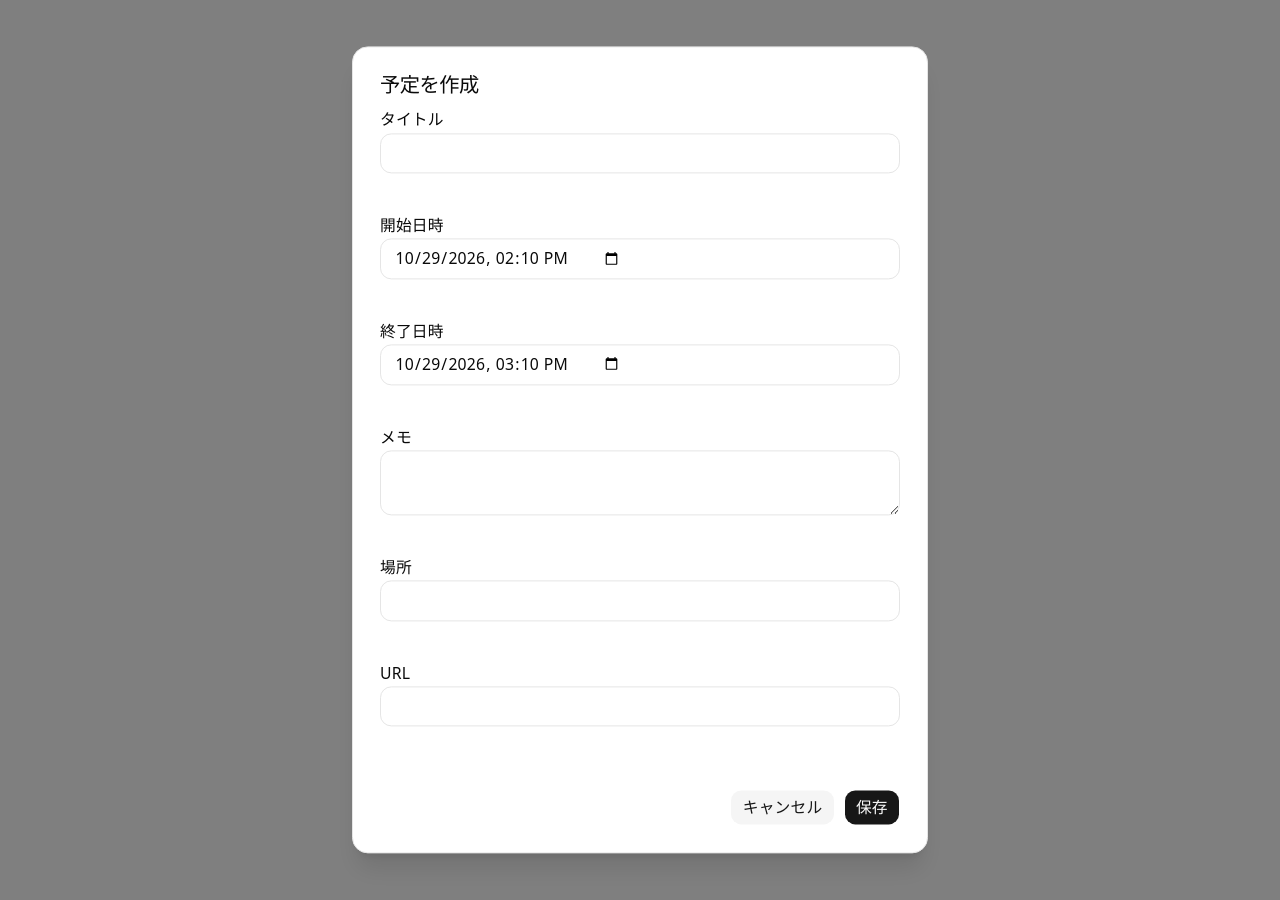
it: EventFormModal › バリデーション › 終了日時が開始日時以前の場合はエラーを表示する
The image size is (1280, 900).
Type "テスト予定" into the field labelled "タイトル" at coordinates (640, 153), box [380,133,900,173]
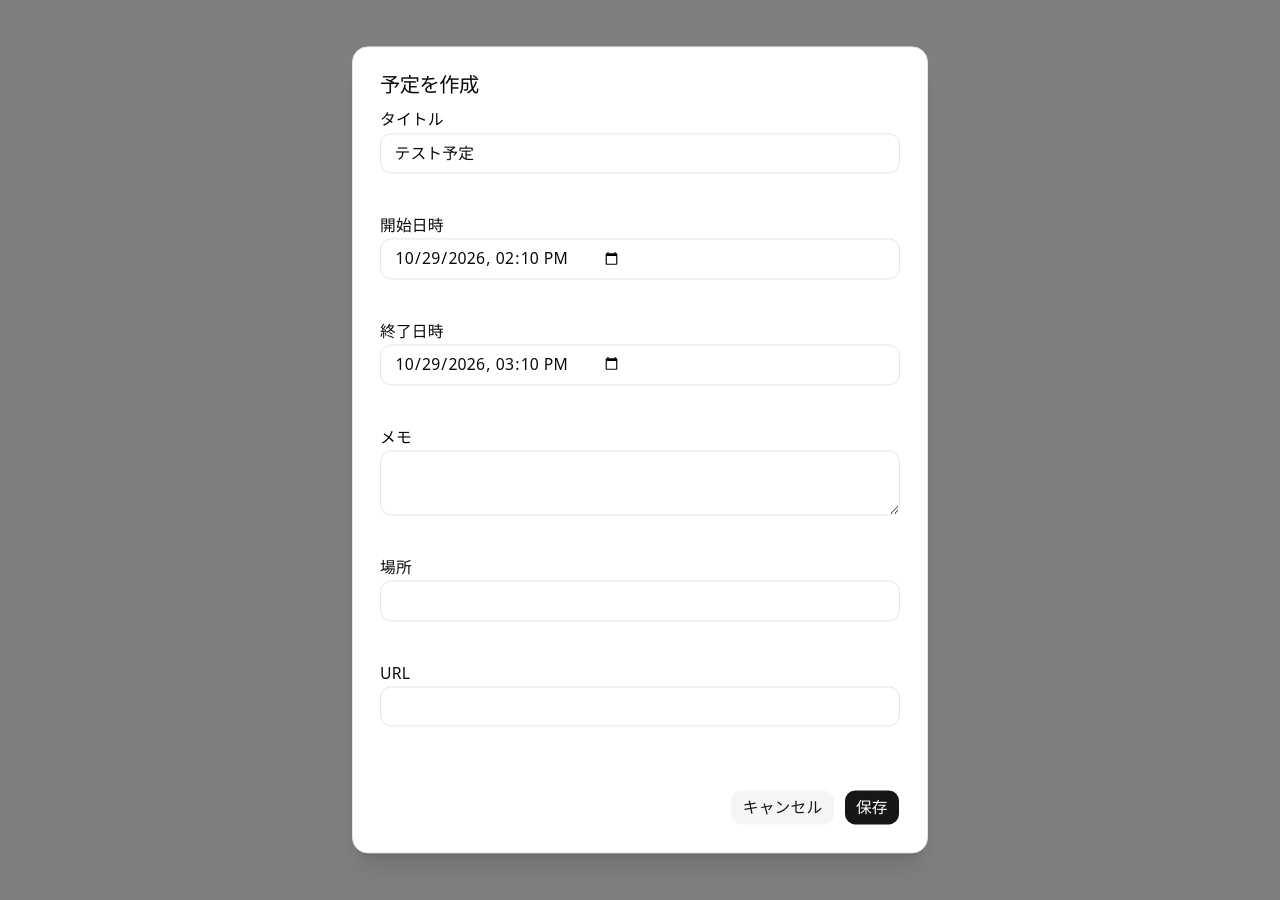
Replace the text in the field labelled "開始日時" with "2026-09-22T10:00" at coordinates (640, 259), box [380,239,900,279]
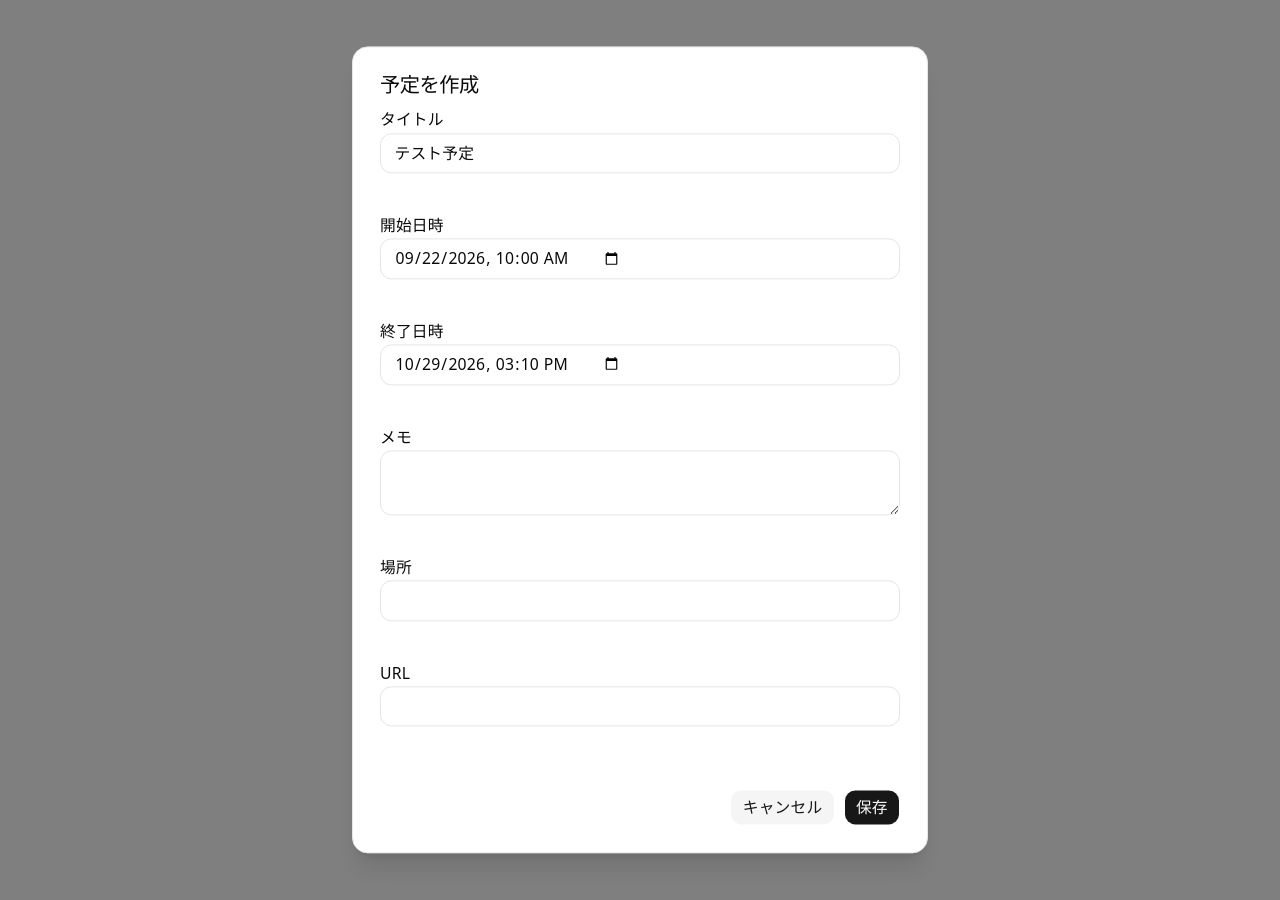
Replace the text in the field labelled "終了日時" with "2026-09-22T09:00" at coordinates (640, 365), box [380,344,900,385]
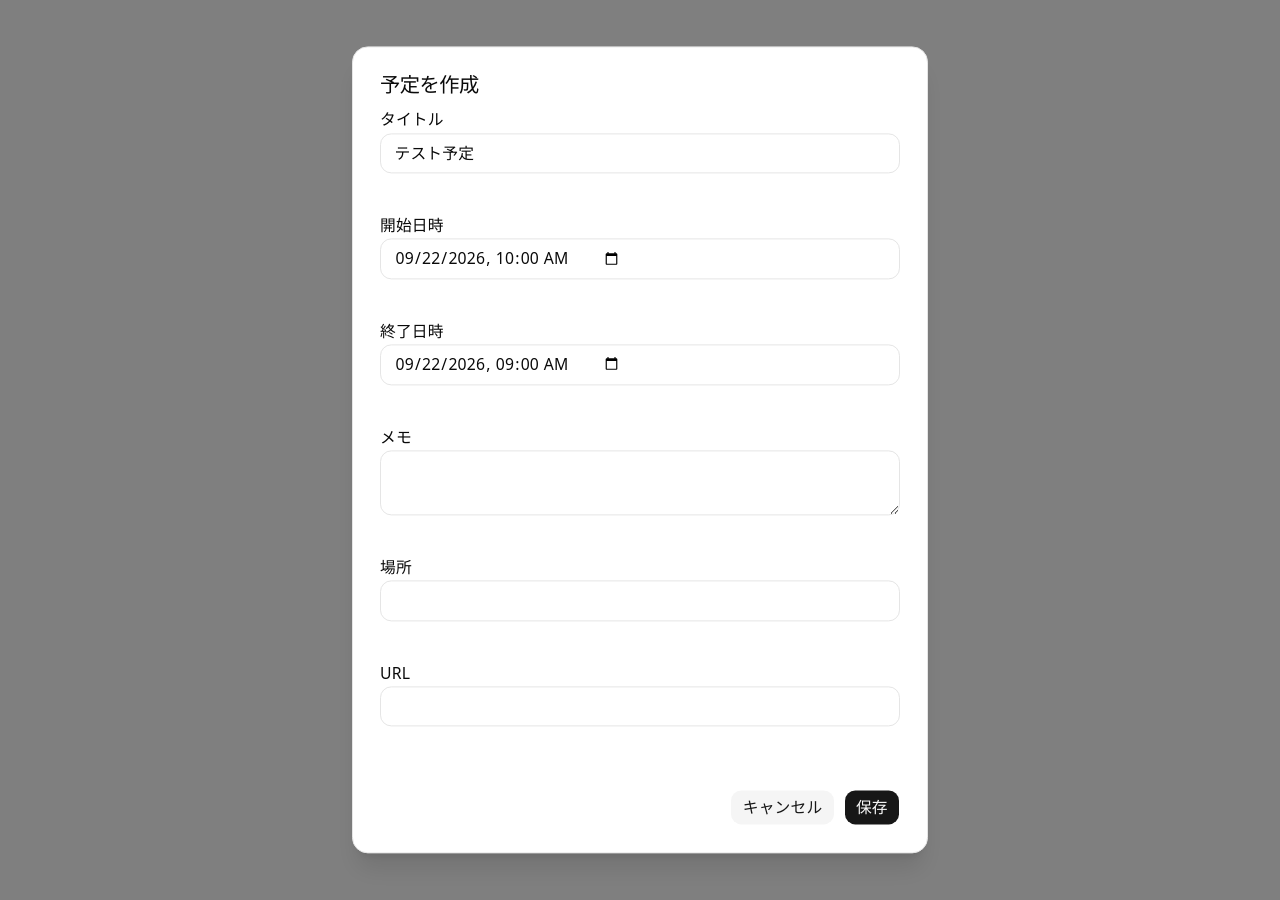
Click the button "保存" at coordinates (872, 808), box [844,790,900,826]
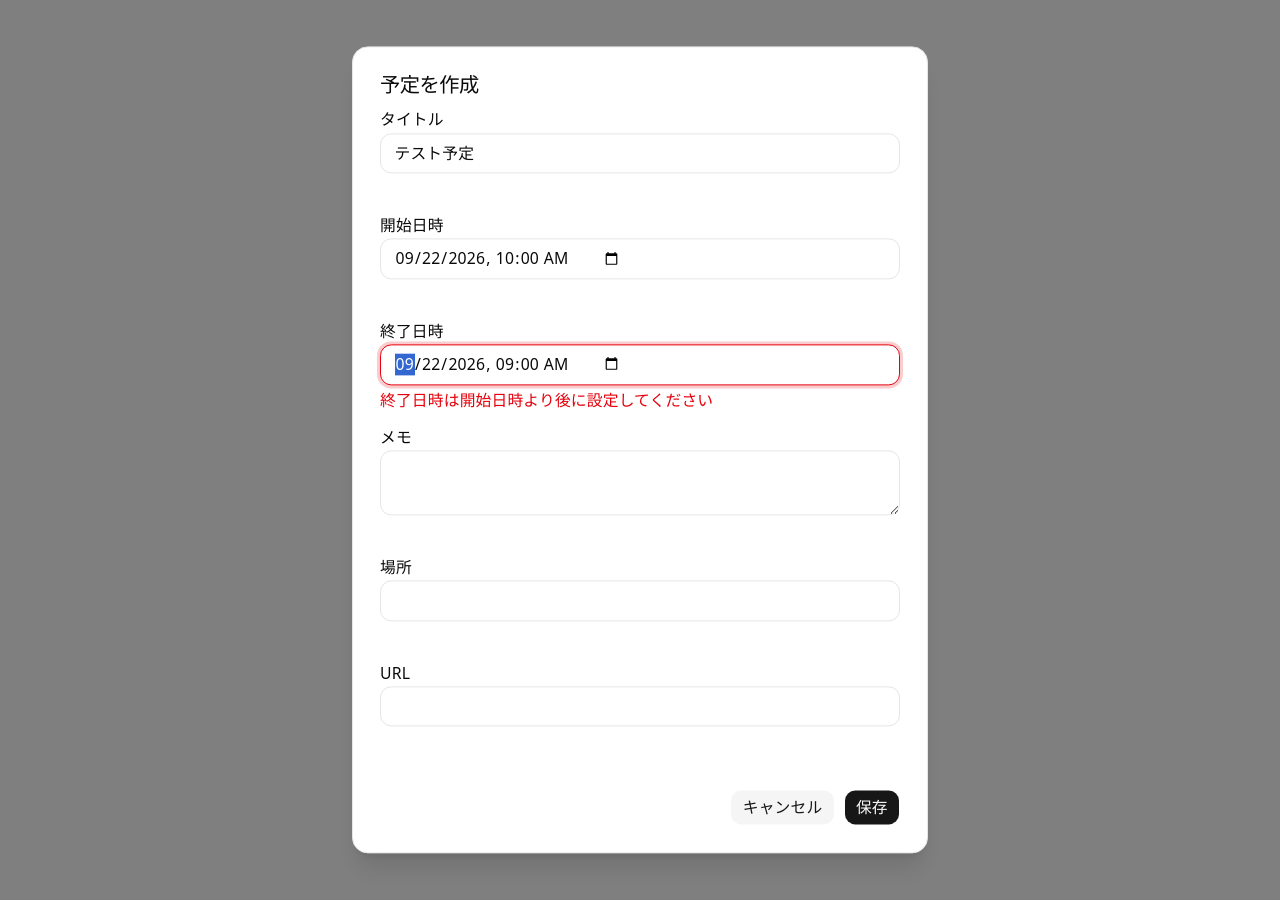
Expected: the text "終了日時は開始日時より後に設定してください" is shown, [380,389,713,411]
